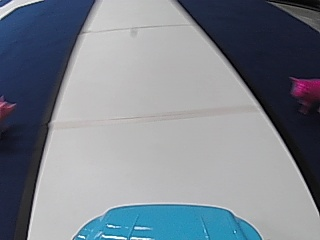pig: (287, 74, 319, 114)
